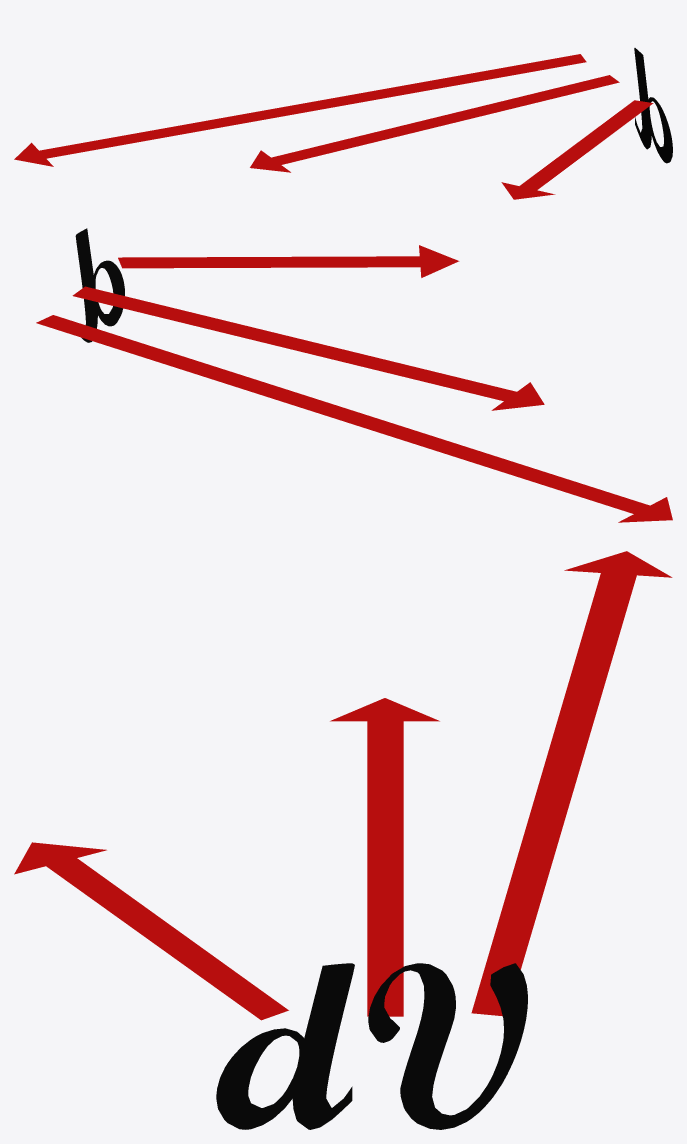
The model's file is dv flechas.fbx.
3 views of the same model, one above another, from view 1: azimuth 30°, elevation 25°; view 2: azimuth 150°, elevation 25°; view 3: azimuth 270°, elevation 25° (orthographic). The views are drawn at different scales.
Parts seen in each view (by area): view 1: polySurface43, polySurface42, polySurface41, Trim_Char_d_2_2; view 2: polySurface43, polySurface42, polySurface41, Trim_Char_d_2_2; view 3: polySurface43, polySurface42, Trim_Char_V_1_2, Trim_Char_d_2_2, polySurface41.
Part boxes in pixels (x1,y1,x2,y2): polySurface43: (14,54,586,166); polySurface42: (250,75,619,172); polySurface41: (501,100,653,199); Trim_Char_d_2_2: (634,48,672,163); polySurface43: (36,315,672,522); polySurface42: (72,286,544,410); polySurface41: (118,245,459,277); Trim_Char_d_2_2: (75,228,124,342); polySurface43: (471,551,672,1016); polySurface42: (330,698,439,1016); Trim_Char_V_1_2: (368,963,527,1129); Trim_Char_d_2_2: (216,963,354,1129); polySurface41: (14,842,288,1020).
Bounding box in the file's own units: 5.17 × 0.8451 × 3.03.
